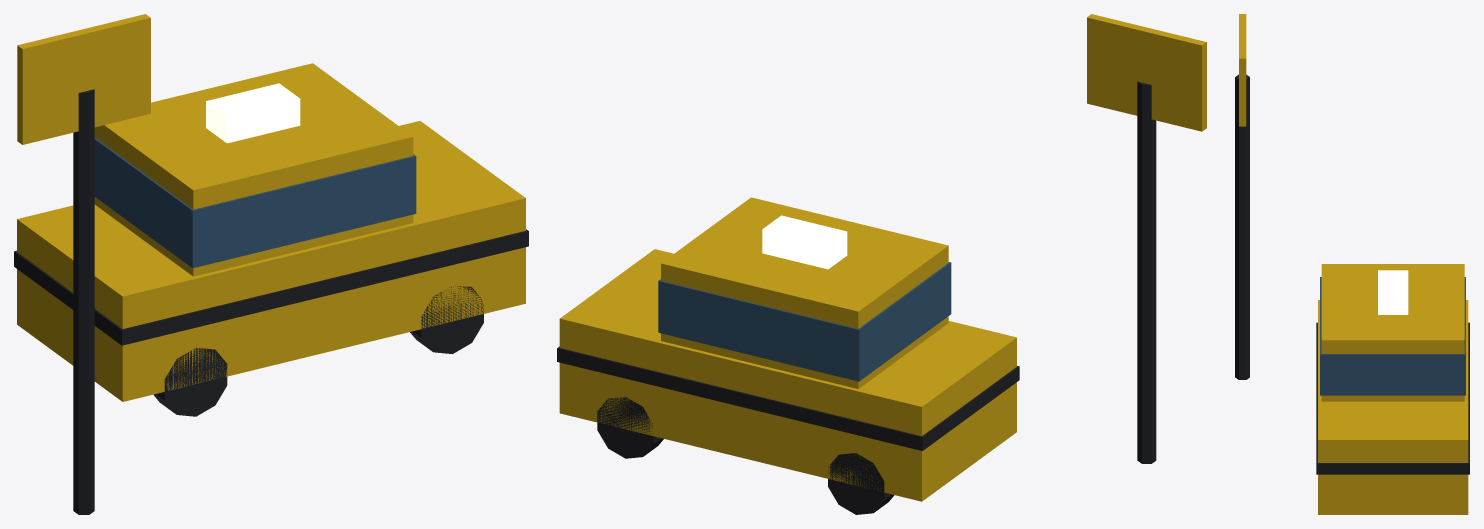
The model's file is taxi-stand.glb.
3 renders of one model, left to right at view 1: azimuth 30°, elevation 25°; view 2: azimuth 150°, elevation 25°; view 3: azimuth 270°, elevation 25°, orthographic. The views are drawn at different scales.
Visible parts, largest first — view 1: cw_paint, cw_glow; view 2: cw_paint, cw_glow; view 3: cw_paint, cw_glow.
Boxes of the visible parts, x1,y1,x2,y2 form: cw_paint: (14,14,528,514); cw_glow: (206,83,300,143); cw_paint: (557,14,1206,514); cw_glow: (762,215,847,269); cw_paint: (1235,14,1469,514); cw_glow: (1378,270,1408,314).
Bounding box in the file's own units: 3.06 × 2.5 × 1.56.
